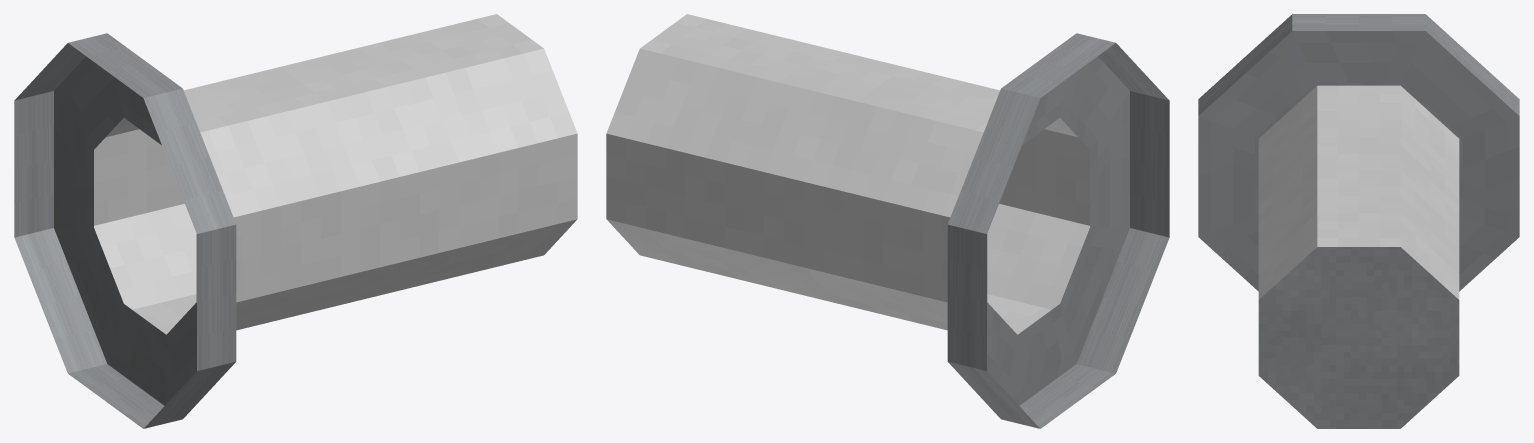
File: connection_16.obj
3 views of the same model, side by side, from view 1: azimuth 30°, elevation 25°; view 2: azimuth 150°, elevation 25°; view 3: azimuth 270°, elevation 25° (orthographic). The views are drawn at different scales.
Bounding box in the file's own units: 0.6562 × 0.5 × 0.5.
